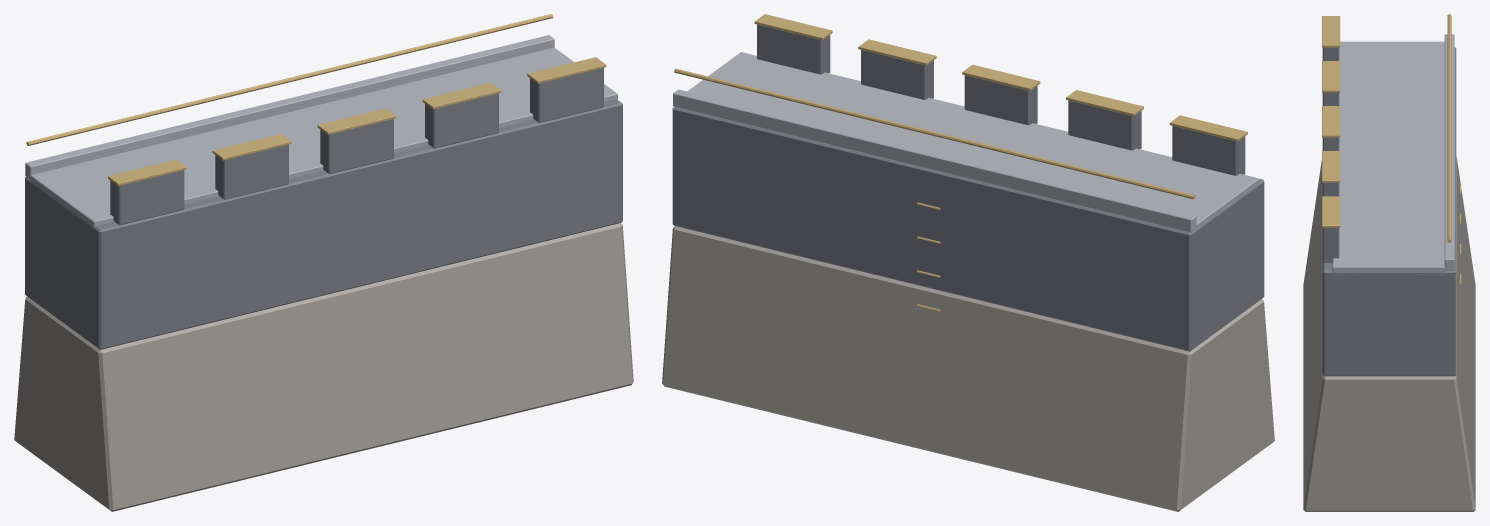
The model's file is gearforge_wall_straight.glb.
The picture shows the model from 3 angles, left to right: view 1: azimuth 30°, elevation 25°; view 2: azimuth 150°, elevation 25°; view 3: azimuth 270°, elevation 25°; orthographic projection. The views are drawn at different scales.
Parts seen in each view (by area): view 1: gearforge_wall_straight_lod0; view 2: gearforge_wall_straight_lod0; view 3: gearforge_wall_straight_lod0.
Part boxes in pixels (bbox=[...]): gearforge_wall_straight_lod0: bbox=[14, 14, 633, 511]; gearforge_wall_straight_lod0: bbox=[662, 14, 1274, 511]; gearforge_wall_straight_lod0: bbox=[1303, 14, 1475, 511].
Bounding box in the file's own units: 16 × 9.26 × 5.18.
